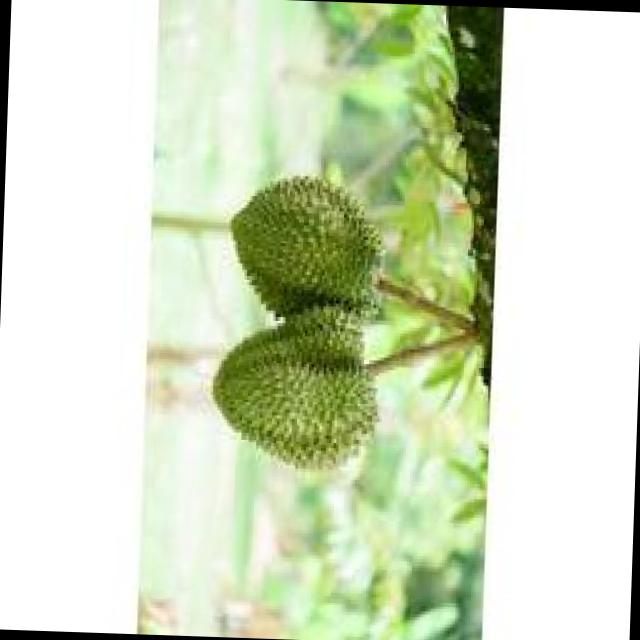fruit: (202, 304, 398, 486), (220, 154, 403, 328)
